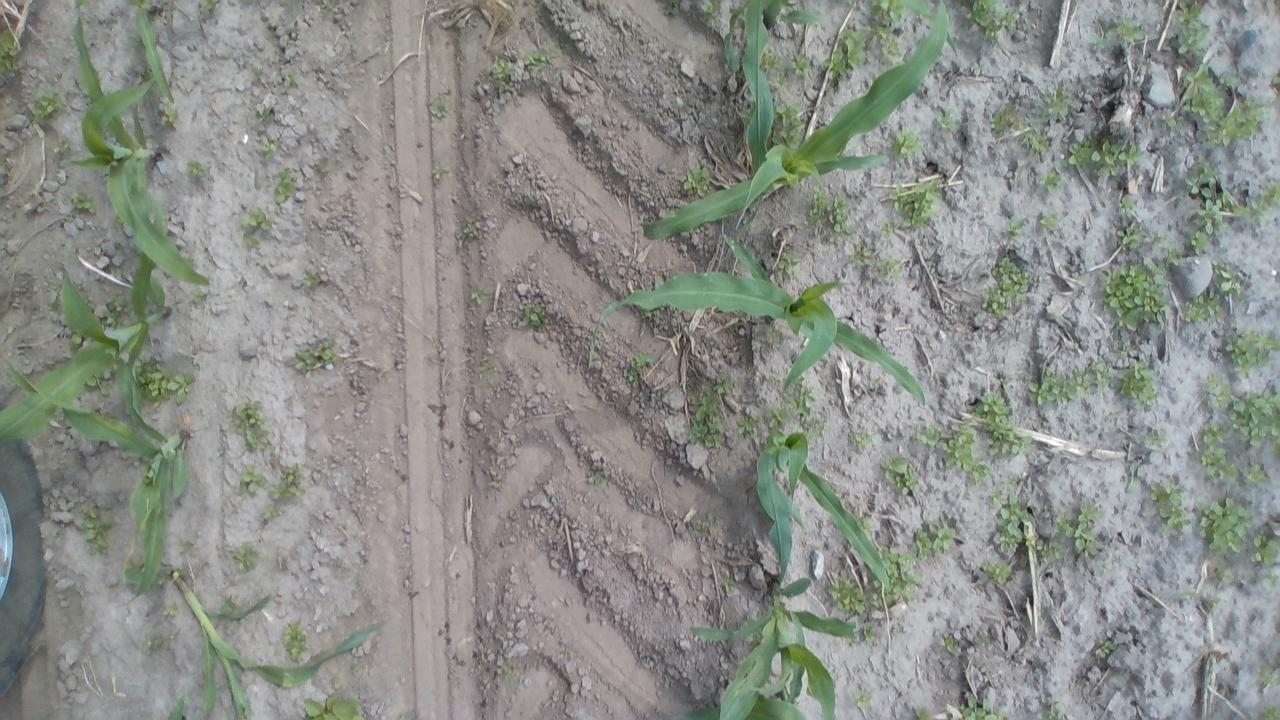Maize: (639, 1, 954, 238), (588, 233, 926, 406), (5, 356, 188, 606), (0, 190, 177, 442), (71, 0, 209, 287), (166, 570, 386, 720), (688, 576, 876, 720), (754, 430, 890, 591), (724, 0, 958, 66), (126, 0, 176, 105)
Weeds: (1200, 496, 1253, 553), (1232, 394, 1280, 450), (894, 182, 945, 226), (1152, 481, 1190, 534), (987, 415, 1036, 456), (972, 8, 1022, 47), (941, 425, 978, 470), (827, 576, 870, 614), (1228, 334, 1273, 368), (1196, 446, 1236, 484), (1228, 102, 1264, 141), (1122, 362, 1157, 402), (240, 400, 268, 450), (1182, 61, 1216, 100), (893, 554, 926, 594), (1130, 279, 1164, 314), (840, 28, 869, 68), (1183, 93, 1220, 124), (1174, 22, 1209, 53), (626, 350, 656, 386), (281, 619, 306, 662), (32, 87, 62, 122), (85, 506, 110, 548), (306, 697, 358, 717), (872, 26, 904, 58), (1250, 533, 1280, 567), (688, 418, 724, 446), (996, 271, 1032, 298), (1001, 493, 1029, 527), (1206, 371, 1230, 410), (681, 166, 712, 196), (692, 390, 723, 420), (1196, 195, 1221, 232), (1199, 284, 1225, 318), (1194, 121, 1232, 144), (964, 697, 1003, 719), (932, 105, 961, 134), (1106, 282, 1136, 310), (928, 522, 958, 549), (982, 559, 1013, 584), (1116, 310, 1164, 326), (1116, 260, 1148, 284), (830, 51, 854, 83), (911, 526, 936, 556), (1121, 15, 1145, 46), (267, 480, 301, 501), (1022, 127, 1046, 156), (811, 187, 832, 220), (1053, 376, 1076, 406), (880, 0, 906, 26), (1184, 173, 1212, 197), (1180, 3, 1208, 27), (996, 524, 1020, 552), (1074, 524, 1096, 554), (991, 255, 1019, 278), (248, 204, 271, 232), (527, 48, 562, 66), (980, 393, 1010, 414), (275, 172, 294, 205), (1117, 219, 1141, 244), (310, 338, 334, 363), (242, 470, 266, 495), (1241, 463, 1265, 488), (165, 374, 192, 396), (794, 386, 814, 415), (1220, 270, 1244, 294), (1030, 382, 1056, 404), (158, 101, 180, 127), (142, 369, 164, 395), (831, 193, 852, 220), (1050, 89, 1070, 117), (766, 408, 794, 428), (850, 243, 874, 266), (736, 414, 762, 435), (896, 467, 916, 494), (888, 132, 918, 150), (1120, 144, 1144, 166), (72, 192, 96, 214), (881, 456, 906, 477), (1184, 300, 1204, 326), (1094, 141, 1114, 167), (1204, 421, 1225, 445), (144, 635, 170, 654), (980, 288, 1004, 308), (1042, 166, 1062, 190), (830, 214, 854, 234), (1066, 142, 1086, 166), (789, 49, 809, 73), (428, 95, 448, 119), (1095, 366, 1114, 391), (878, 258, 904, 276), (970, 458, 990, 481), (520, 306, 543, 326), (855, 688, 876, 709), (234, 548, 254, 570), (1056, 513, 1074, 537), (1038, 541, 1060, 560), (1044, 694, 1060, 720), (188, 157, 206, 180), (713, 376, 736, 394), (1191, 228, 1207, 253), (301, 268, 321, 288), (1079, 500, 1097, 522), (1120, 197, 1140, 216), (493, 58, 512, 78), (1147, 430, 1166, 450), (1094, 641, 1117, 657), (918, 428, 942, 443), (878, 222, 896, 242), (1038, 212, 1058, 230), (1078, 374, 1096, 393), (778, 255, 798, 272), (1162, 246, 1179, 266), (291, 350, 311, 367), (258, 138, 278, 154), (280, 71, 298, 88), (810, 418, 823, 441), (1258, 705, 1279, 719), (1002, 219, 1019, 236), (284, 465, 300, 483), (479, 358, 493, 378), (0, 40, 16, 57), (471, 288, 488, 304), (854, 431, 870, 448), (1127, 464, 1136, 493), (164, 603, 178, 621), (911, 706, 930, 718), (594, 466, 604, 487), (946, 634, 956, 654), (464, 223, 478, 237)
